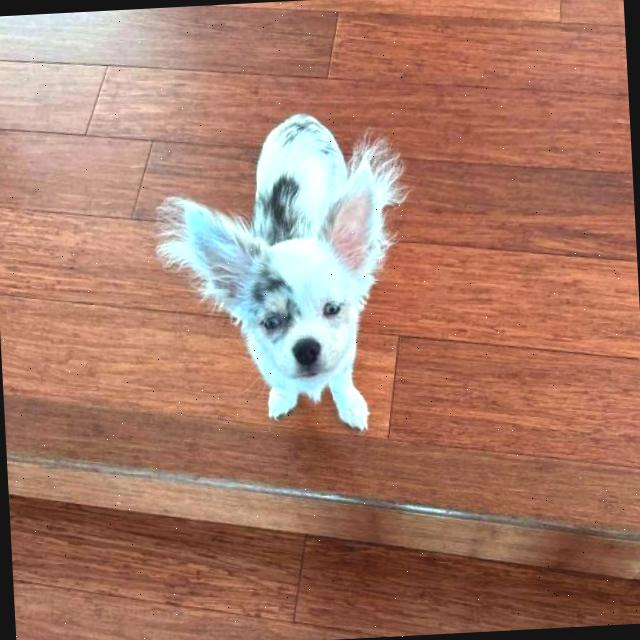chihuahua_dog: (166, 150, 416, 437)
